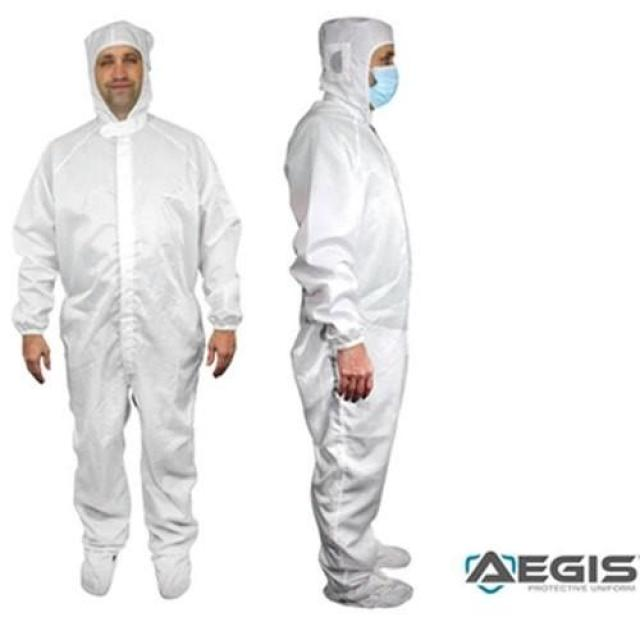Coverall: (14, 18, 246, 604), (278, 11, 421, 612)
Mask: (367, 64, 401, 106)
